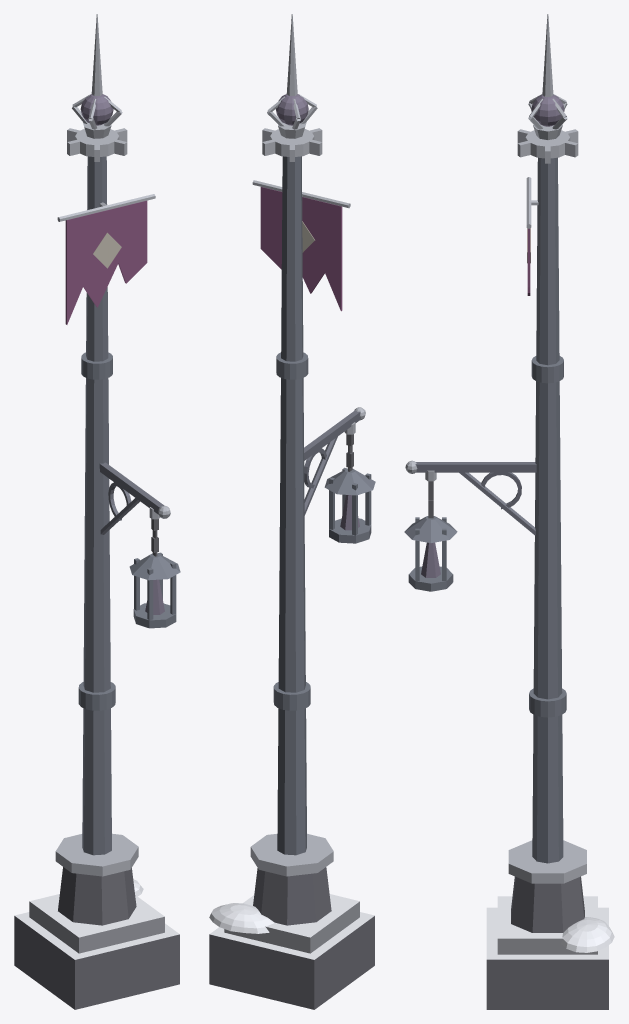
Rendered from PR_Mastro_Feira_Apagado.fbx.
3 renders of one model, left to right at view 1: azimuth 30°, elevation 25°; view 2: azimuth 150°, elevation 25°; view 3: azimuth 270°, elevation 25°, orthographic.
Parts seen in each view (by area): view 1: PR_Mastro_Feira_Apagado; view 2: PR_Mastro_Feira_Apagado; view 3: PR_Mastro_Feira_Apagado.
Part boxes in pixels (bbox=[...]): PR_Mastro_Feira_Apagado: bbox=[14, 14, 180, 1009]; PR_Mastro_Feira_Apagado: bbox=[209, 14, 375, 1009]; PR_Mastro_Feira_Apagado: bbox=[404, 14, 614, 1009].
Bounding box in the file's own units: 1.2 × 9.61 × 1.89.
